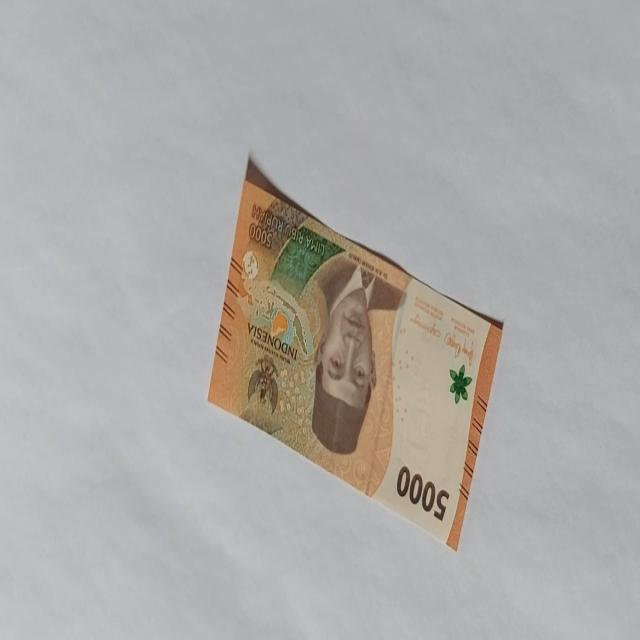lima ribu rupiah: (206, 152, 504, 552), (310, 255, 378, 455)
